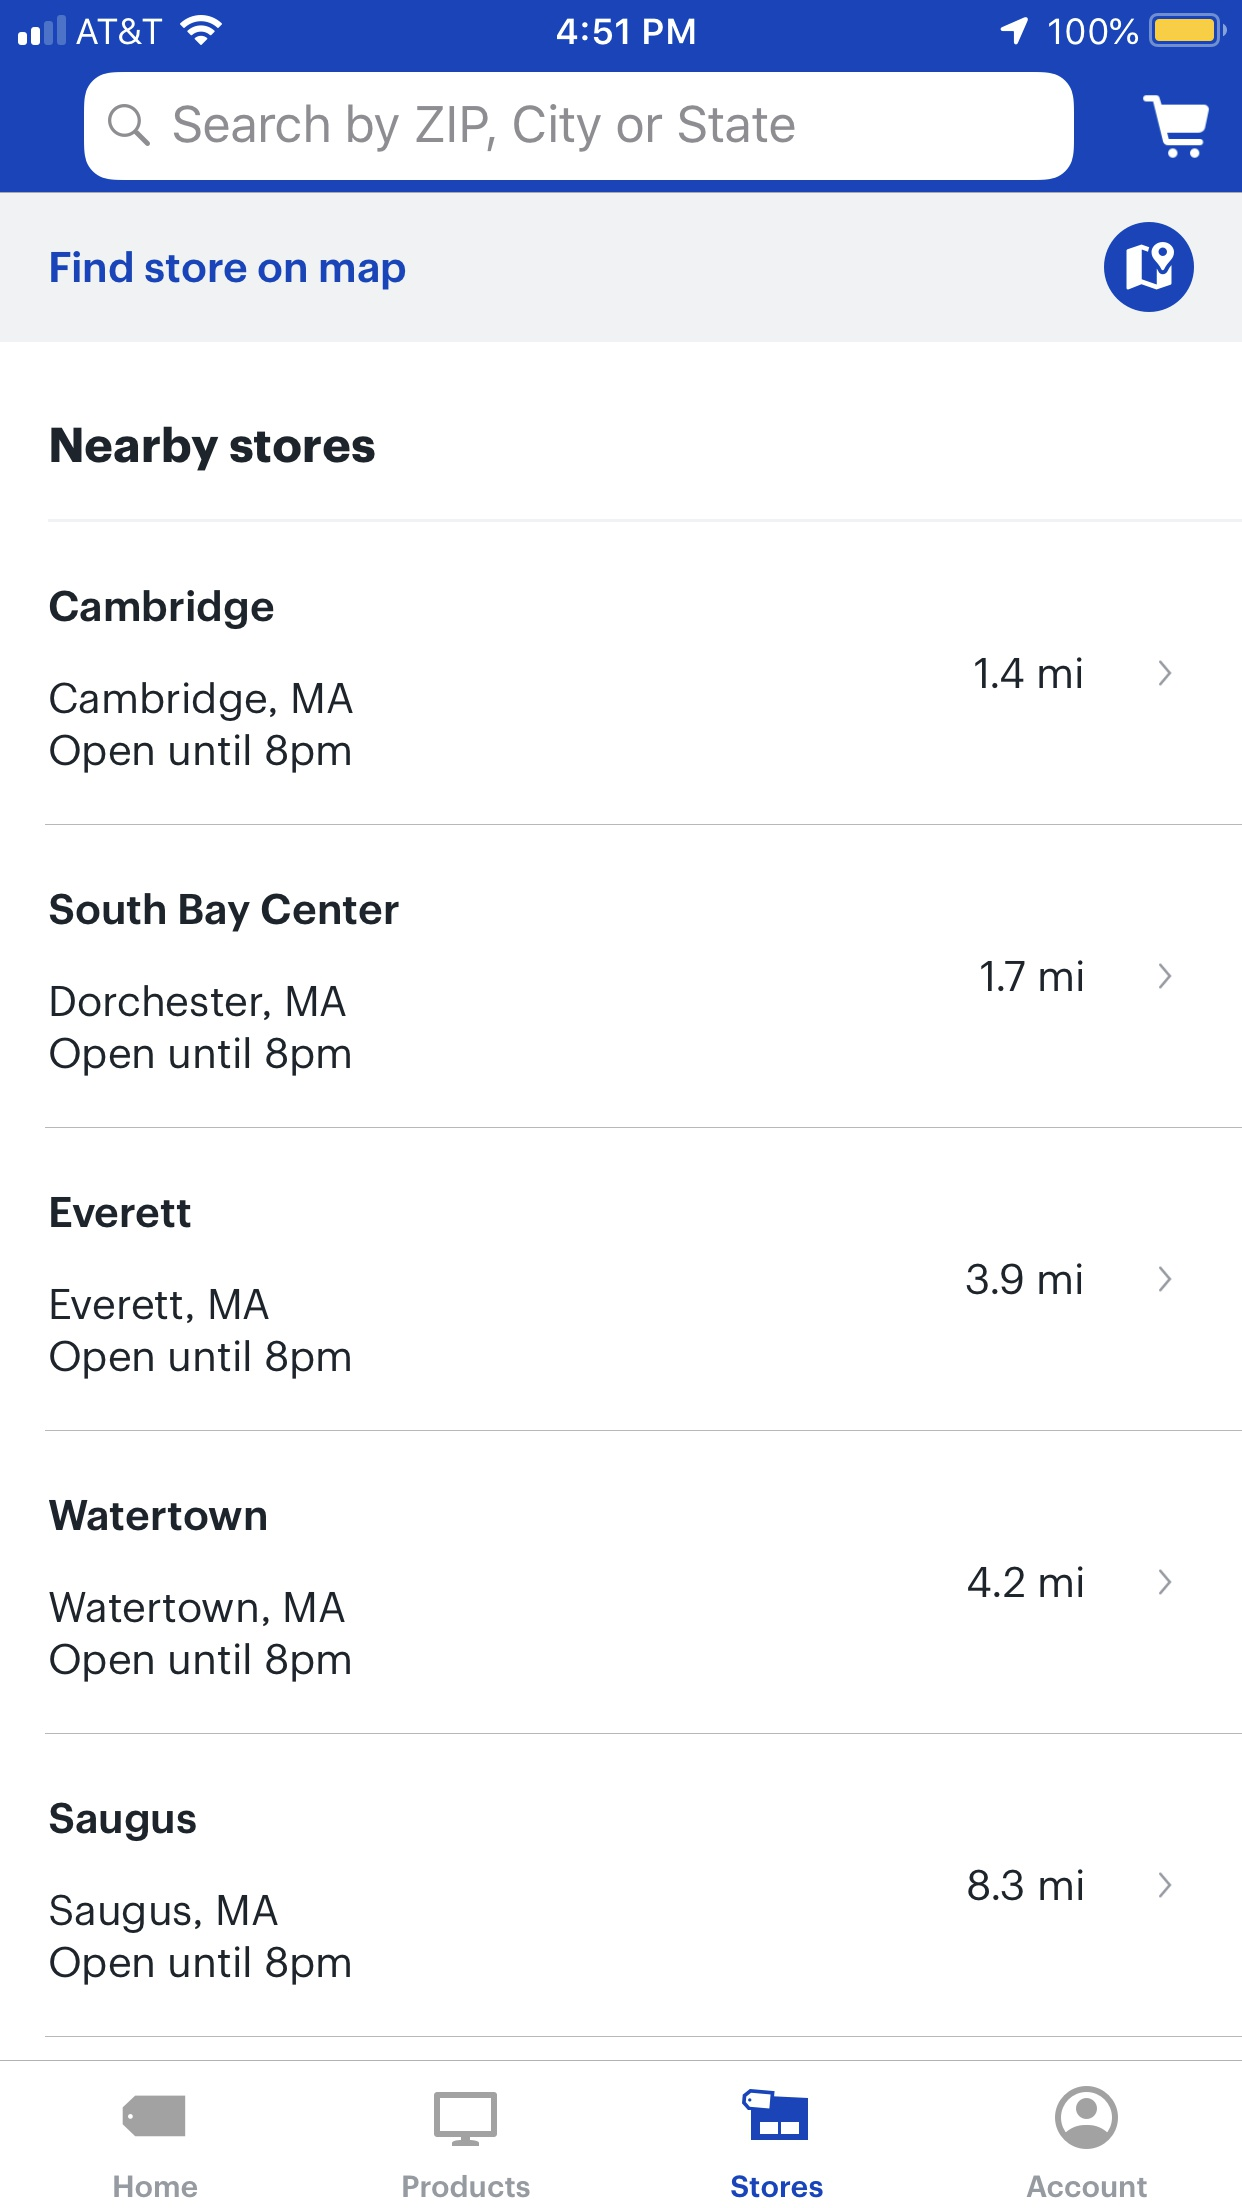EditText: (85, 71, 1075, 180)
Icon: (1104, 221, 1195, 312), (1142, 96, 1210, 161), (1054, 2085, 1119, 2150), (123, 2094, 187, 2137), (109, 105, 152, 147), (1159, 1871, 1174, 1899), (1159, 963, 1174, 990), (1159, 660, 1174, 687), (1159, 1568, 1172, 1595), (1159, 1266, 1172, 1294)
Image: (434, 2091, 499, 2147), (742, 2087, 808, 2141)
Text: (174, 105, 796, 153), (50, 682, 355, 775), (49, 1591, 352, 1683), (50, 986, 352, 1078), (50, 1287, 352, 1380), (49, 1894, 350, 1987), (52, 425, 376, 472), (49, 892, 400, 933), (52, 252, 406, 291), (50, 590, 274, 631), (49, 1498, 268, 1532), (50, 1802, 199, 1843), (52, 1197, 193, 1228), (966, 1263, 1083, 1297), (968, 1565, 1084, 1598), (968, 1868, 1084, 1902), (980, 958, 1084, 992), (974, 658, 1081, 690), (402, 2175, 531, 2199), (1027, 2175, 1148, 2199), (729, 2173, 823, 2197), (114, 2175, 199, 2197)
UpperTaskBar: (2, 2, 1242, 49)
